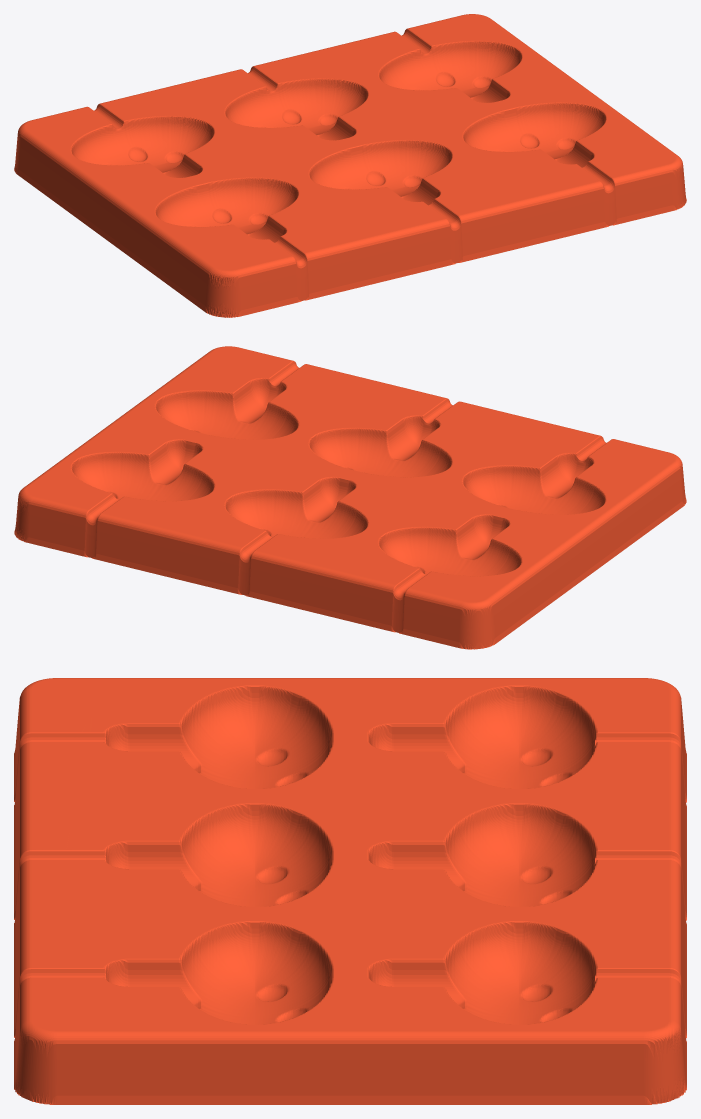
File: mold.glb
3 renders of one model, top to bottom at view 1: azimuth 30°, elevation 25°; view 2: azimuth 150°, elevation 25°; view 3: azimuth 270°, elevation 25°, orthographic. The views are drawn at different scales.
Parts seen in each view (by area): view 1: geometry_0; view 2: geometry_0; view 3: geometry_0.
Part boxes in pixels (<box>): geometry_0: <box>14,14,686,317</box>; geometry_0: <box>14,346,686,649</box>; geometry_0: <box>14,678,686,1104</box>.
Size of the model in its own units: 0.1824 by 0.0155 by 0.1416.
